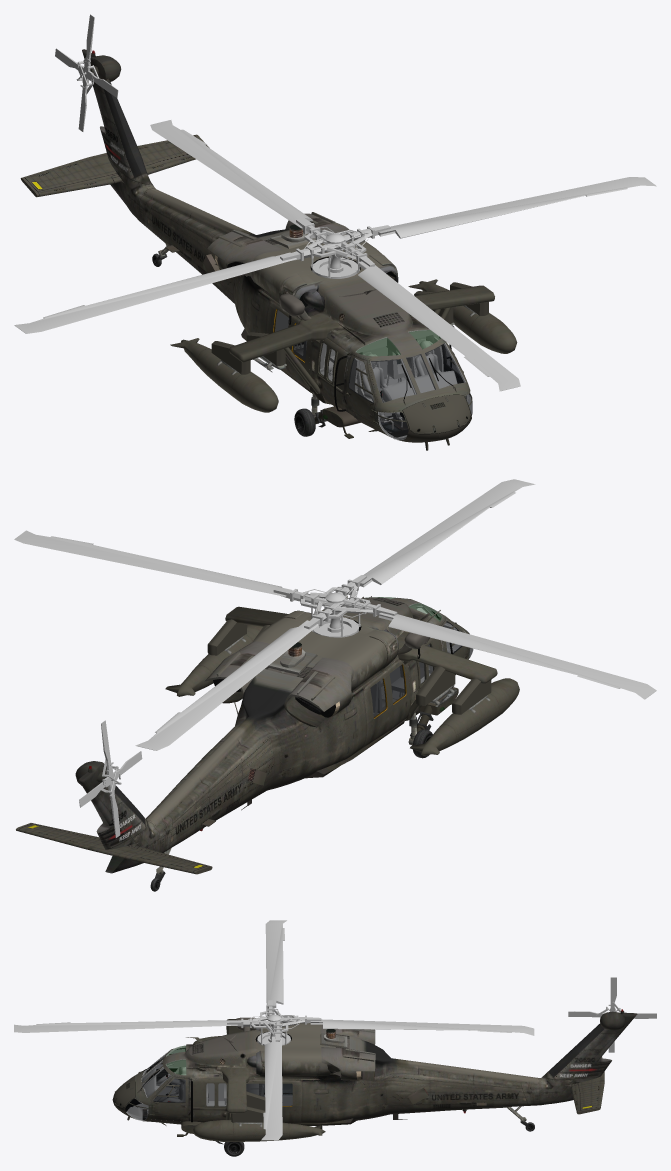
Rendered from Helicopter3.FBX.
3 renders of one model, top to bottom at view 1: azimuth 30°, elevation 25°; view 2: azimuth 150°, elevation 25°; view 3: azimuth 270°, elevation 25°, orthographic. The views are drawn at different scales.
Visible parts, largest first — view 1: fuselage, main_rotor, elevator, cabinDoor_, rear_rotor, Door_R, pilot; view 2: fuselage, main_rotor, Door_R, elevator, rear_rotor; view 3: fuselage, main_rotor, cabinDoo13, Door_L, elevator, rear_rotor, pilot.
Boxes of the visible parts, x1,y1,x2,y2 form: fuselage: (82,49,517,450); main_rotor: (14,120,656,391); elevator: (20,134,209,197); cabinDoor_: (345,353,380,430); rear_rotor: (55,14,118,131); Door_R: (267,303,311,388); pilot: (360,340,440,421); fuselage: (75,596,519,886); main_rotor: (14,479,656,750); Door_R: (361,662,410,748); elevator: (16,823,212,874); rear_rotor: (79,720,142,837); fuselage: (112,1009,637,1144); main_rotor: (14,920,534,1140); cabinDoo13: (149,1076,189,1121); Door_L: (246,1082,301,1123); elevator: (571,1057,604,1114); rear_rotor: (568,977,656,1052); pilot: (156,1067,186,1101).
Size of the model in its own units: 0.4048 by 0.1328 by 0.5001.
